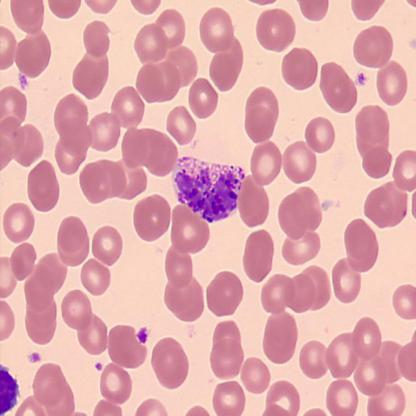Basophil: (171, 154, 247, 226)
